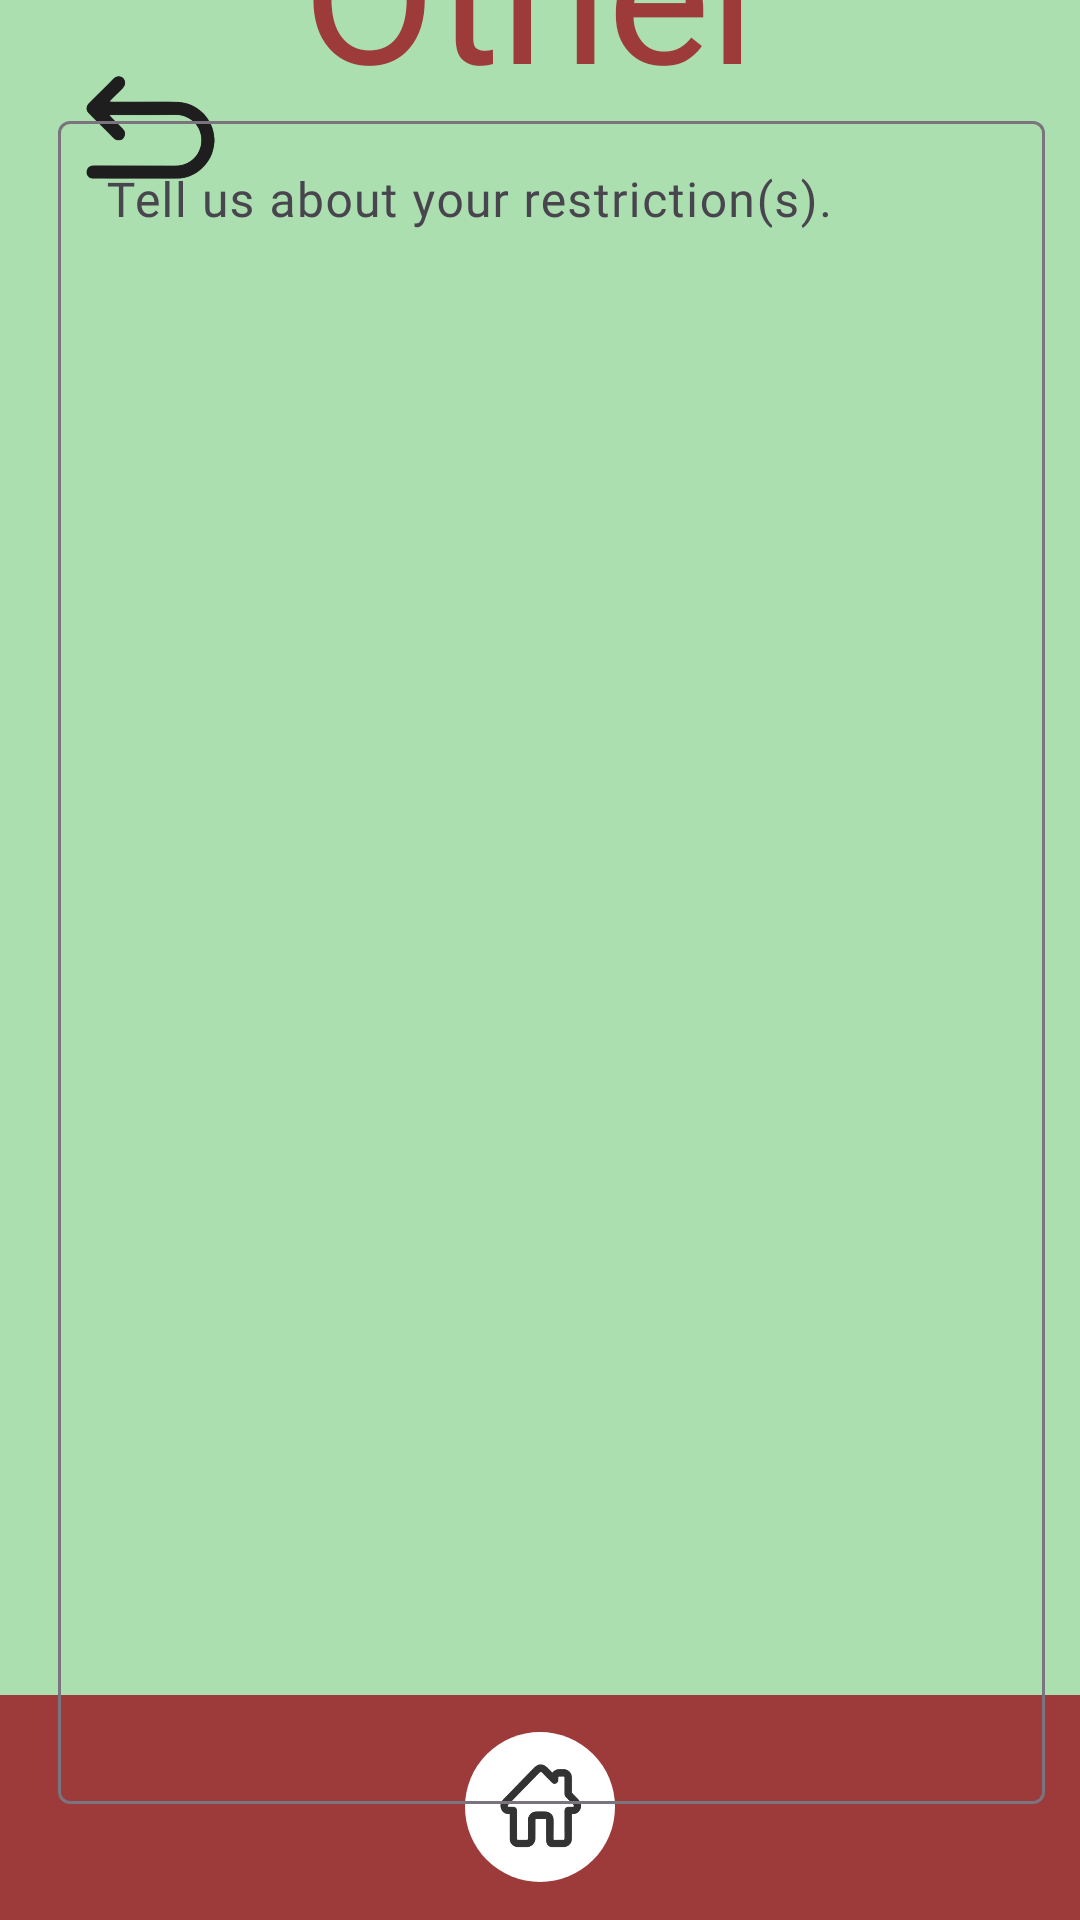

Icons on this 1080x1920 Android screen, each with the point to tap as point (x, y):
back: point (150, 147)
Home: point (540, 1807)
